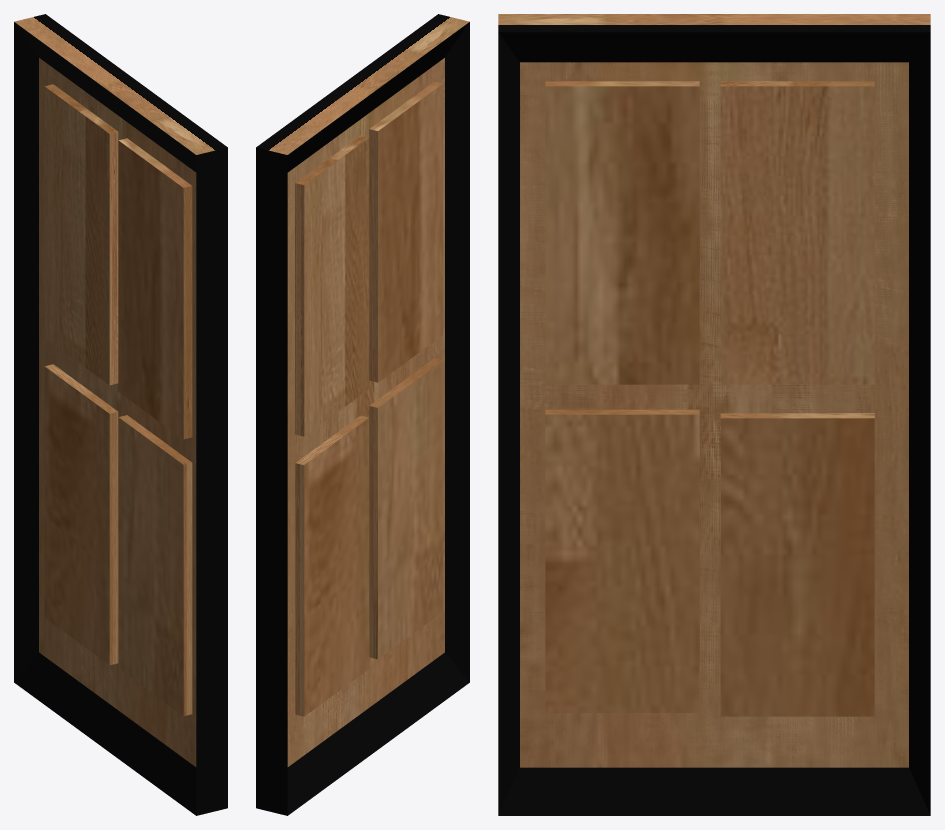
File: BarnDoor4.fbx
3 renders of one model, left to right at view 1: azimuth 30°, elevation 25°; view 2: azimuth 150°, elevation 25°; view 3: azimuth 270°, elevation 25°, orthographic. The views are drawn at different scales.
Parts seen in each view (by area): view 1: Cube; view 2: Cube; view 3: Cube.
Part boxes in pixels (bbox=[...]): Cube: bbox=[14, 14, 227, 815]; Cube: bbox=[256, 14, 469, 815]; Cube: bbox=[498, 14, 930, 815].
Size of the model in its own units: 20 by 400 by 200.
Materials: 1 (1 with a texture image).
